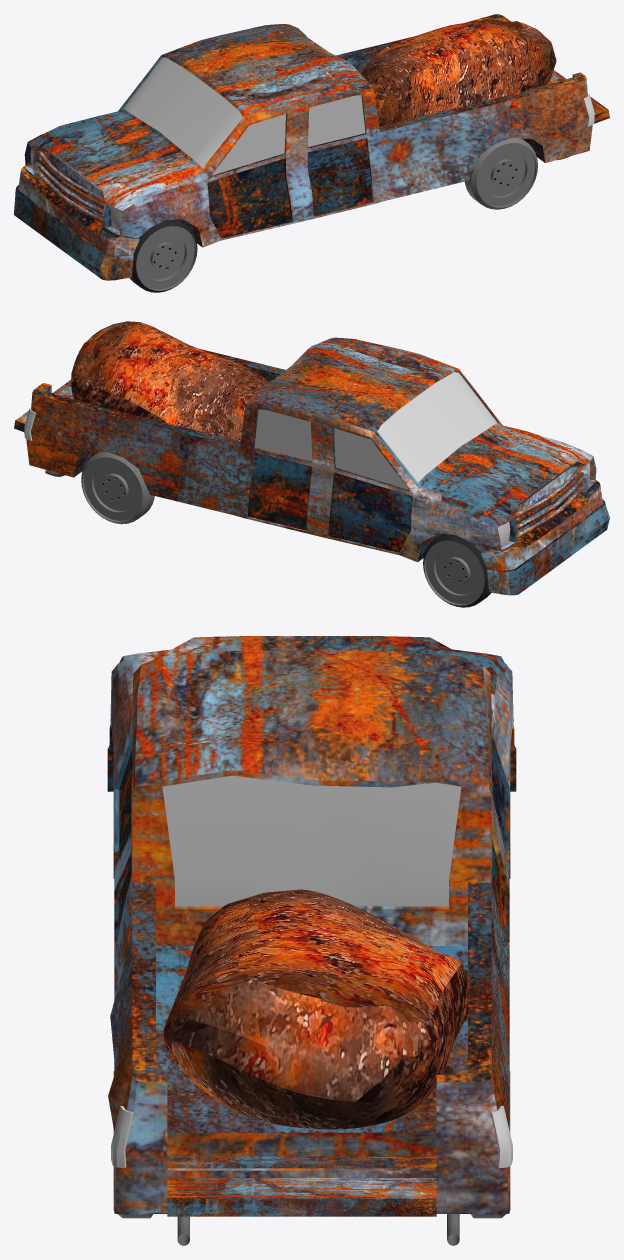
File: ShittuCar.gltf
3 views of the same model, one above another, from view 1: azimuth 30°, elevation 25°; view 2: azimuth 150°, elevation 25°; view 3: azimuth 270°, elevation 25° (orthographic). The views are drawn at different scales.
Visible parts, largest first — view 1: Plane; view 2: Plane; view 3: Plane.
Boxes of the visible parts, x1,y1,x2,y2 form: Plane: (14,14,609,292); Plane: (14,321,609,607); Plane: (107,636,516,1245).
Size of the model in its own units: 10.47 by 3.13 by 3.58.
Materials: 9 (3 with a texture image).
